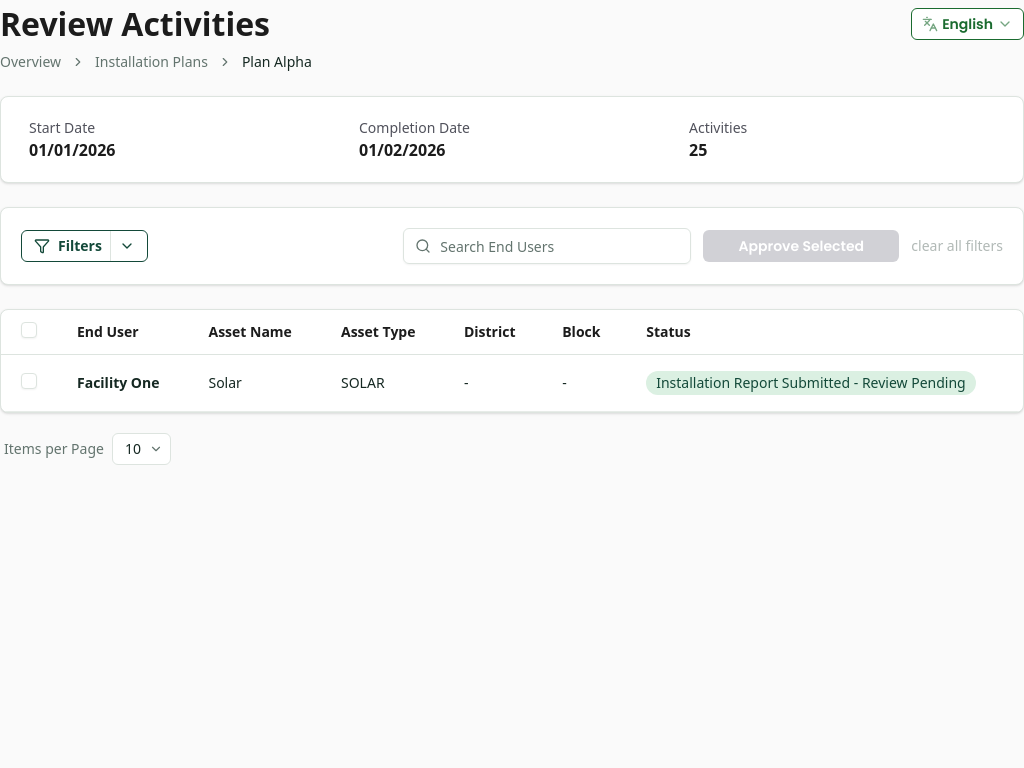
Test: ActivityList › bulk approve › keeps bulk approve gated behind the confirm dialog until confirmed
Click the checkbox next to "Facility One": x=29, y=381 [21,373,37,389]
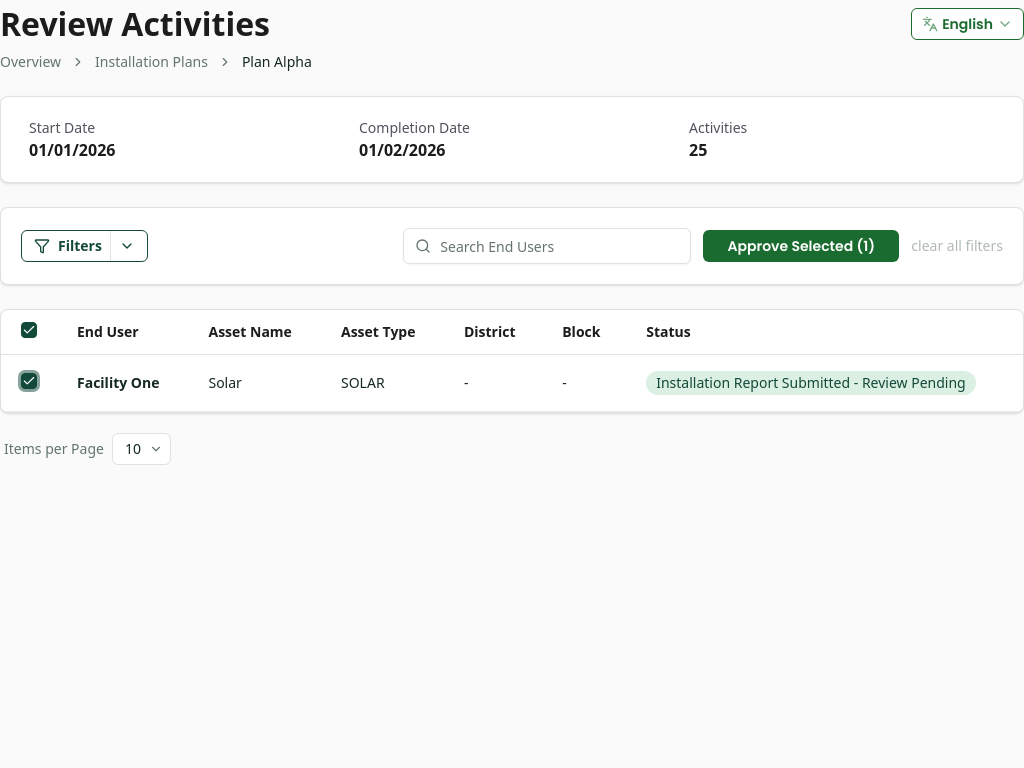
Click the button "Approve Selected (1)": x=801, y=246 [703,230,899,262]
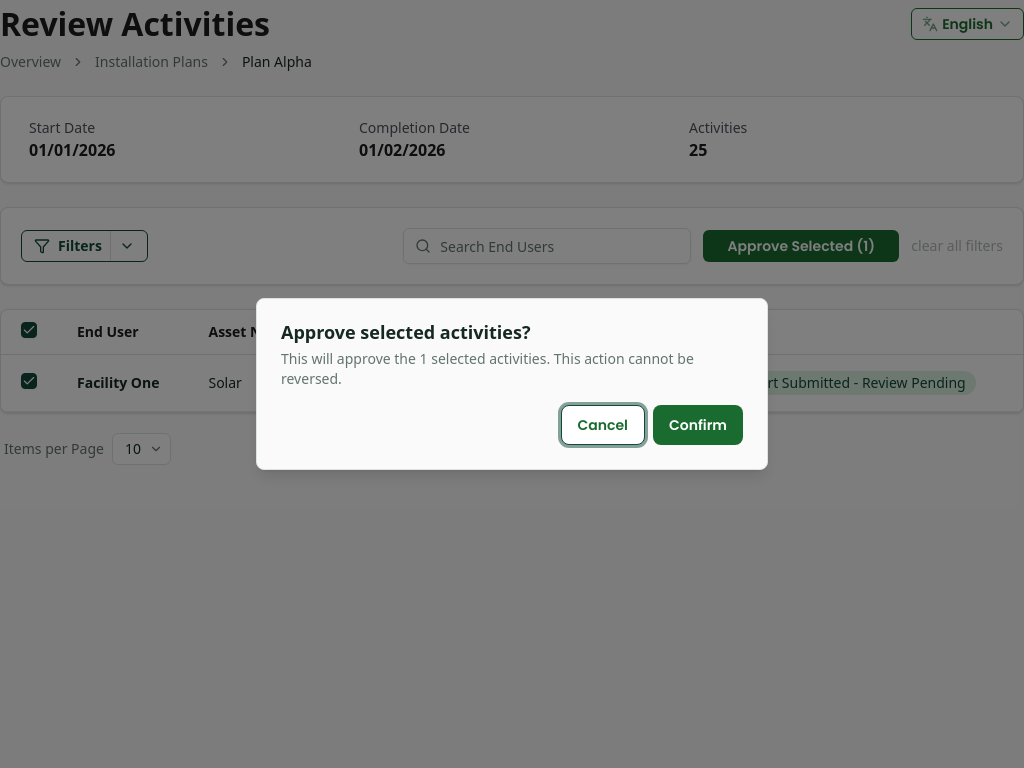
Result: the heading "Approve selected activities?" is shown at [281,320,530,344]
Click the button "Cancel": x=603, y=425 [560,405,645,445]
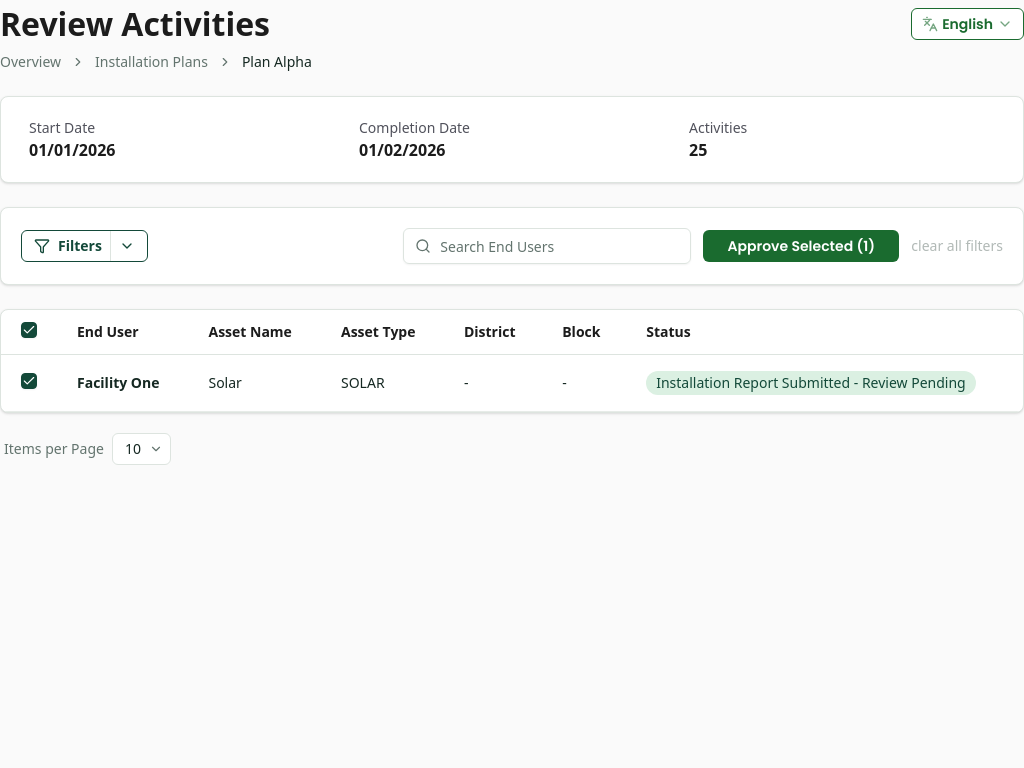
Result: the heading "Approve selected activities?" is gone
